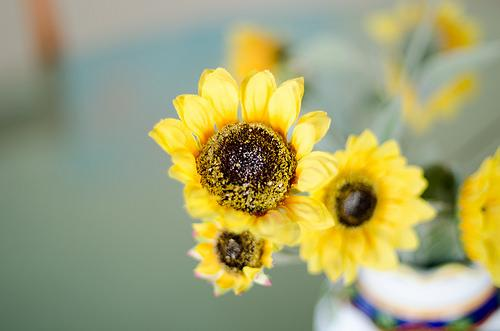sunflower: (152, 63, 335, 248), (301, 132, 433, 279), (188, 217, 276, 294), (456, 149, 500, 284)
